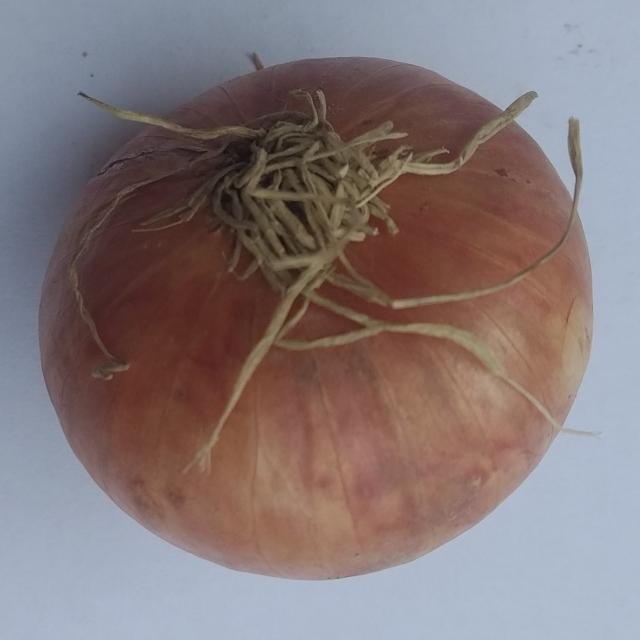onion: (38, 55, 593, 581)
